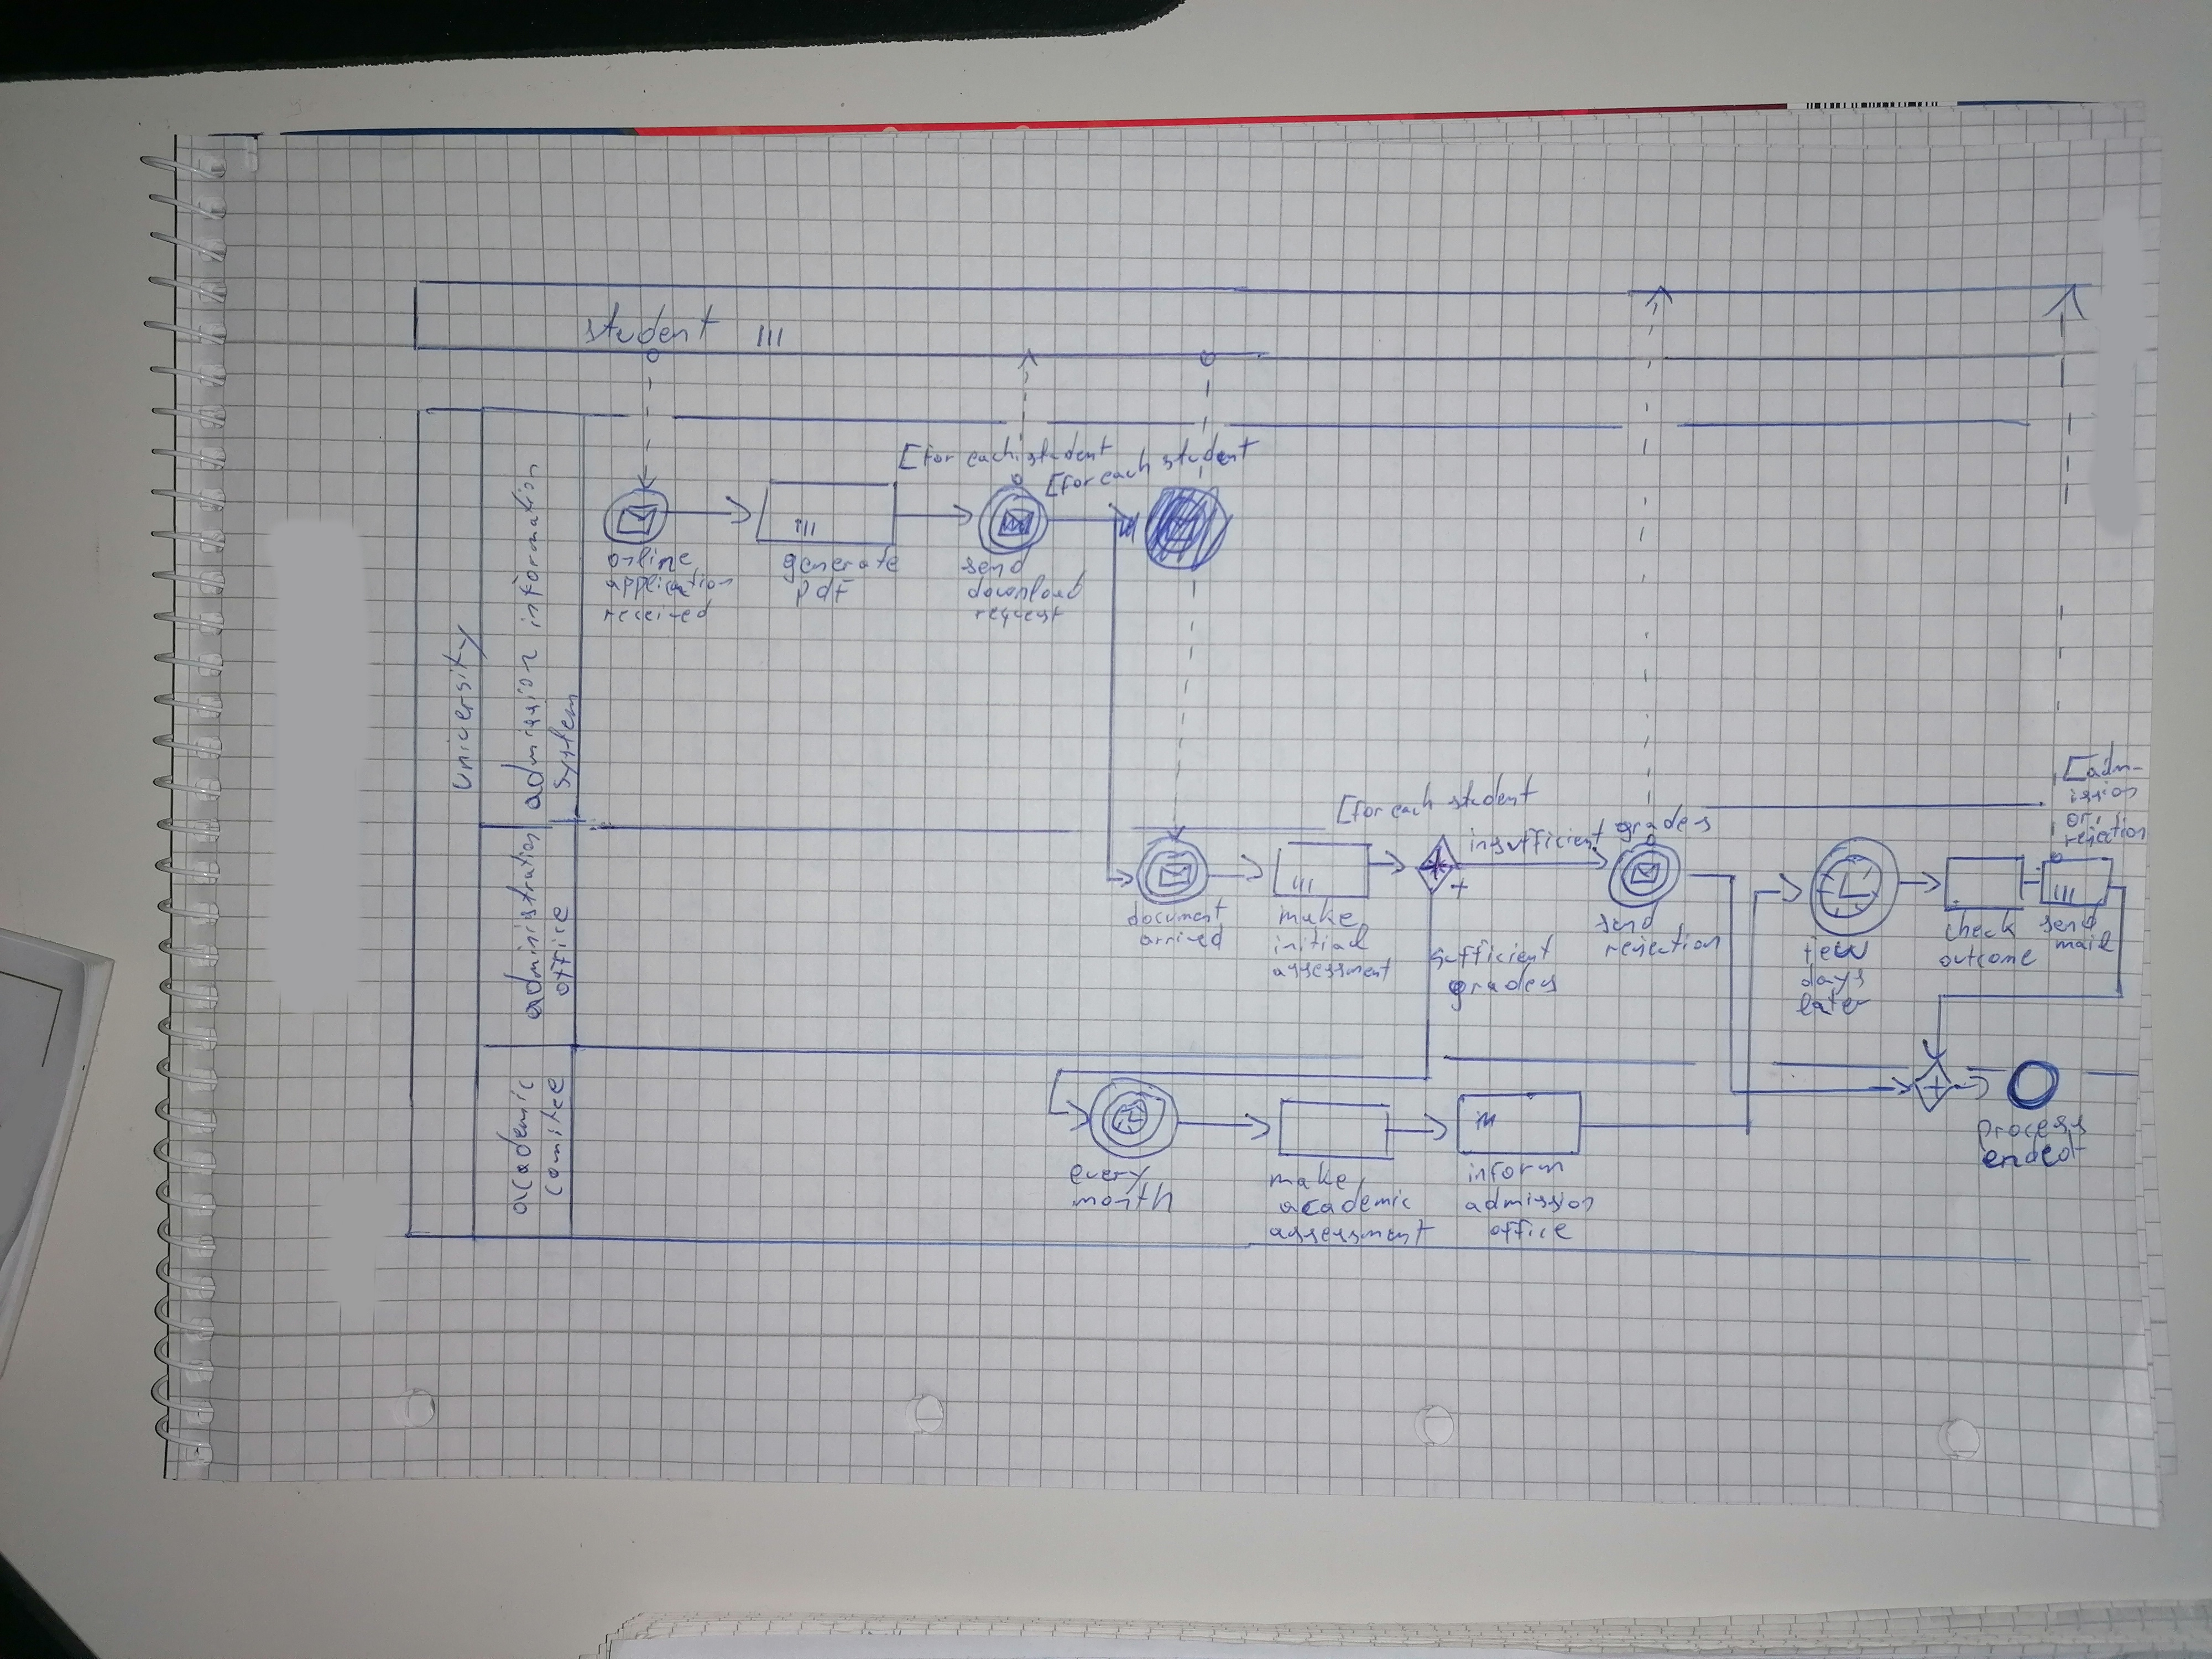111: (790, 518, 818, 539)
III: (2049, 879, 2076, 905), (1289, 870, 1314, 895)
Ill: (742, 314, 788, 355)
Process: (1973, 1114, 2088, 1149)
Sufficient: (1428, 940, 1556, 971)
academic: (498, 1068, 538, 1216), (1277, 1190, 1413, 1217)
adm-: (2068, 754, 2143, 782)
administration: (512, 828, 543, 1012)
admission: (516, 639, 543, 808), (1468, 1192, 1595, 1214)
application: (607, 576, 734, 598)
arrived: (1142, 927, 1228, 951)
assessment: (1274, 1223, 1431, 1245), (1270, 961, 1390, 979)
check: (1942, 915, 2026, 945)
comitee: (538, 1070, 569, 1199)
days: (1795, 968, 1867, 990)
document: (1124, 904, 1224, 928)
download: (969, 576, 1091, 601)
each: (1096, 447, 1156, 488), (959, 434, 1021, 473), (1384, 781, 1441, 820)
endeof: (1981, 1136, 2085, 1176)
every: (1065, 1161, 1151, 1185)
few: (1798, 940, 1869, 964)
for: (914, 440, 955, 476), (1347, 792, 1381, 829), (1057, 469, 1094, 494)
generate: (782, 550, 901, 577)
grades: (1615, 801, 1715, 842), (1451, 971, 1559, 1004)
inform: (1461, 1156, 1564, 1191)
information: (516, 471, 543, 632)
initial: (1271, 924, 1376, 956)
insufficient: (1467, 816, 1612, 854)
issions: (2062, 782, 2136, 809)
later: (1798, 992, 1867, 1016)
mail: (2054, 935, 2116, 954)
make: (1284, 903, 1359, 928), (1274, 1167, 1347, 1193)
month: (1074, 1183, 1177, 1217)
office: (548, 904, 575, 995), (1488, 1220, 1573, 1243)
online: (604, 544, 697, 575)
or: (2066, 808, 2089, 828)
outcome: (1938, 946, 2041, 972)
pdf: (793, 572, 855, 604)
received: (604, 607, 708, 624)
rejection: (1603, 931, 1720, 962), (2065, 821, 2147, 849)
request: (972, 605, 1065, 625)
send: (1594, 910, 1667, 938), (960, 553, 1025, 581), (2041, 911, 2102, 938)
student: (575, 306, 714, 346), (1159, 433, 1264, 474), (1446, 771, 1542, 811), (1025, 435, 1112, 467)
system: (551, 689, 581, 791)
university: (444, 624, 478, 789)
